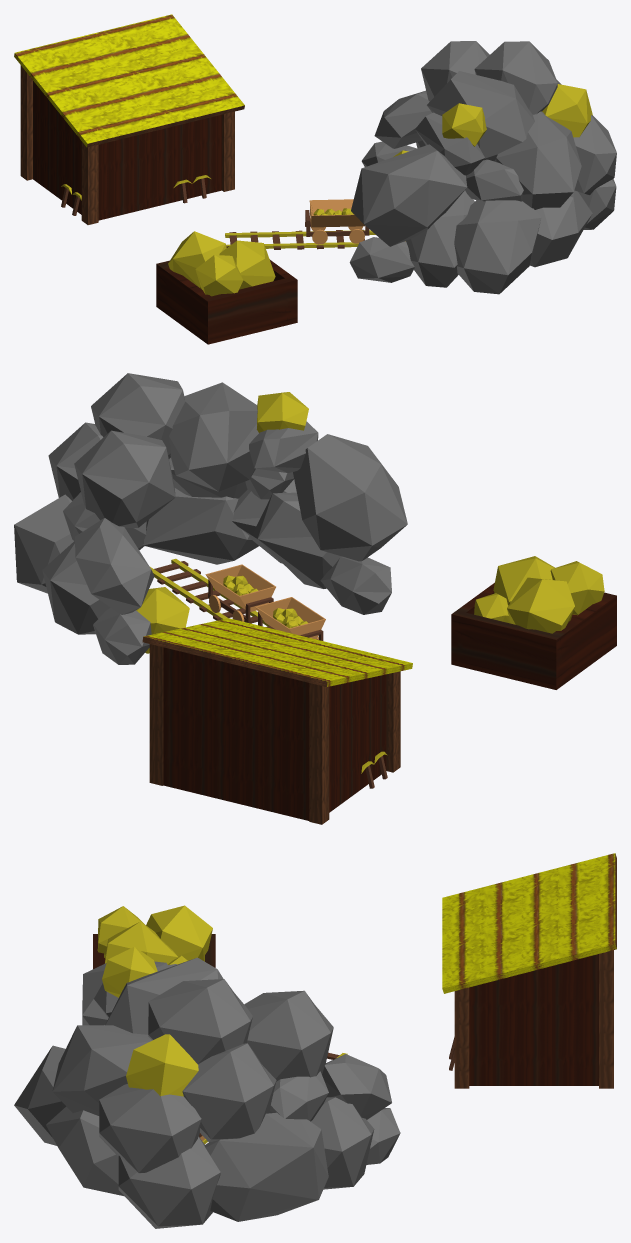
File: Mine_Gold_Age1.fbx
3 renders of one model, top to bottom at view 1: azimuth 30°, elevation 25°; view 2: azimuth 150°, elevation 25°; view 3: azimuth 270°, elevation 25°, orthographic. The views are drawn at different scales.
Visible parts, largest first — view 1: Caverne, MinerHouse, Cube, Wagon, Icosphere.002, Icosphere.005, Icosphere.003, Icosphere.004, Icosphere.001, RAil; view 2: Caverne, MinerHouse, Cube, Icosphere.003, Wagon.001, Wagon, RAil, Icosphere.001, Icosphere, Icosphere.004, Icosphere.005, Icosphere.006; view 3: Caverne, MinerHouse, Icosphere.002, Icosphere.003, Icosphere.005, Icosphere.001, Icosphere.004, Cube.
Boxes of the visible parts, x1=… form: Caverne: x1=349, y1=41, x2=616, y2=294; MinerHouse: x1=14, y1=14, x2=244, y2=224; Cube: x1=156, y1=246, x2=297, y2=344; Wagon: x1=305, y1=199, x2=369, y2=244; Icosphere.002: x1=542, y1=84, x2=592, y2=137; Icosphere.005: x1=219, y1=240, x2=275, y2=289; Icosphere.003: x1=168, y1=231, x2=226, y2=288; Icosphere.004: x1=195, y1=255, x2=243, y2=296; Icosphere.001: x1=442, y1=103, x2=486, y2=146; RAil: x1=225, y1=229, x2=405, y2=249; Caverne: x1=14, y1=373, x2=407, y2=664; MinerHouse: x1=142, y1=618, x2=412, y2=824; Cube: x1=451, y1=582, x2=616, y2=689; Icosphere.003: x1=507, y1=577, x2=574, y2=633; Wagon.001: x1=205, y1=564, x2=275, y2=623; Wagon: x1=255, y1=597, x2=325, y2=640; RAil: x1=150, y1=558, x2=275, y2=629; Icosphere.001: x1=256, y1=392, x2=308, y2=432; Icosphere: x1=136, y1=587, x2=189, y2=653; Icosphere.004: x1=550, y1=561, x2=604, y2=615; Icosphere.005: x1=493, y1=556, x2=554, y2=605; Icosphere.006: x1=474, y1=593, x2=510, y2=623; Caverne: x1=14, y1=957, x2=400, y2=1228; MinerHouse: x1=442, y1=853, x2=616, y2=1088; Icosphere.002: x1=126, y1=1034, x2=198, y2=1096; Icosphere.003: x1=146, y1=905, x2=212, y2=961; Icosphere.005: x1=105, y1=921, x2=178, y2=964; Icosphere.001: x1=102, y1=946, x2=157, y2=997; Icosphere.004: x1=97, y1=906, x2=143, y2=958; Cube: x1=93, y1=934, x2=215, y2=968.
Bounding box in the file's own units: 984 × 398 × 982.
Materials: 7 (3 with a texture image).
